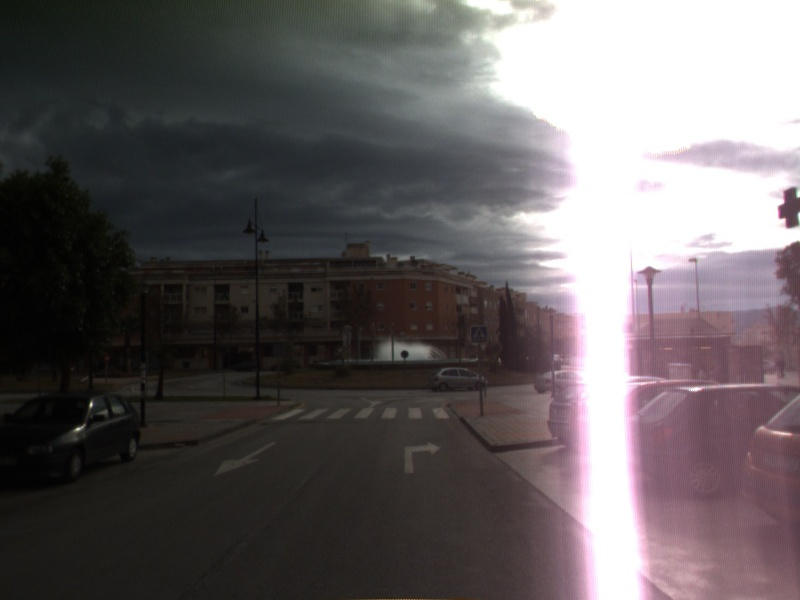RIGHT: (402, 439, 443, 475)
